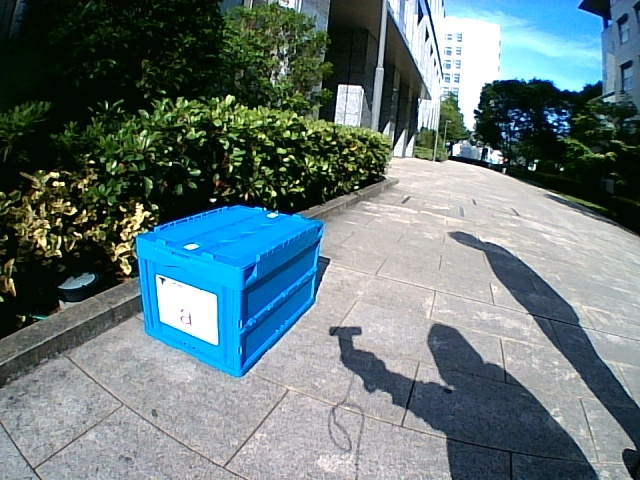green_box: (135, 205, 323, 377)
tag_b: (160, 293, 217, 327)
